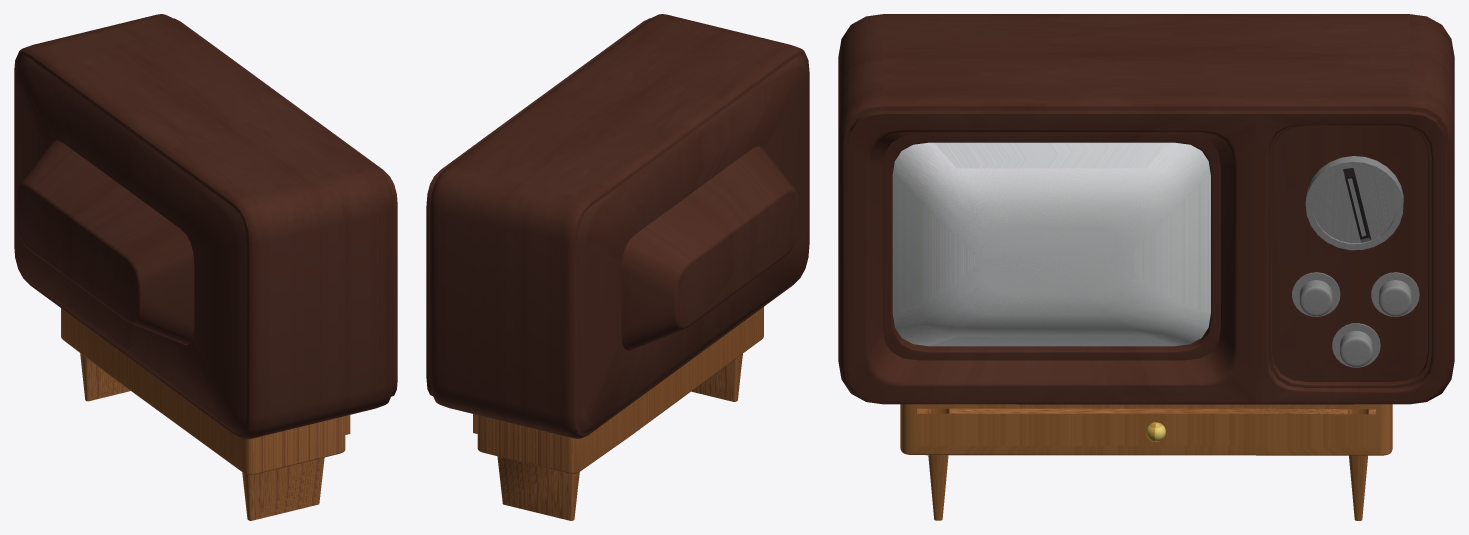
Rendered from televisio.FBX.
3 renders of one model, left to right at view 1: azimuth 30°, elevation 25°; view 2: azimuth 150°, elevation 25°; view 3: azimuth 270°, elevation 25°, orthographic. The views are drawn at different scales.
Parts seen in each view (by area): view 1: Box001; view 2: Box001; view 3: Box001, Cylinder001, Cylinder002.
Boxes of the visible parts, <box> form: Box001: <box>14,14,397,520</box>; Box001: <box>426,14,809,520</box>; Box001: <box>838,14,1454,520</box>; Cylinder001: <box>1305,156,1403,250</box>; Cylinder002: <box>1292,272,1419,367</box>.
Bounding box in the file's own units: 18.3 × 29.06 × 36.61.
Materials: 6 (6 with a texture image).
